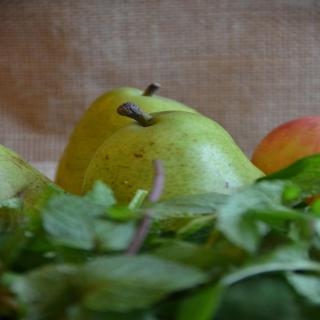Apple: (252, 110, 320, 206)
Pear: (77, 108, 268, 198), (54, 86, 203, 196), (0, 143, 77, 225)
